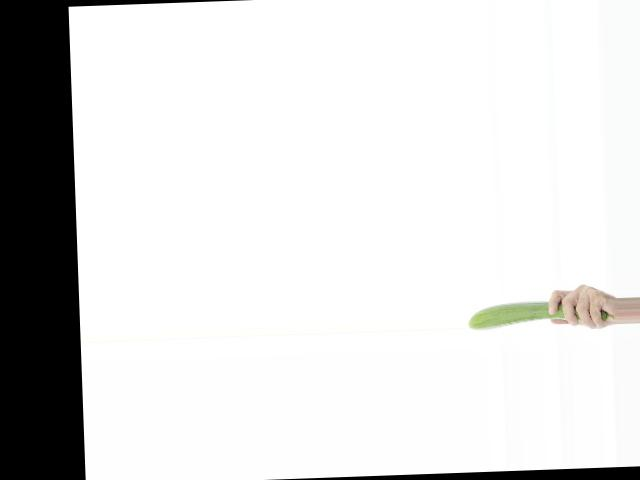cucumber: (466, 298, 613, 331)
